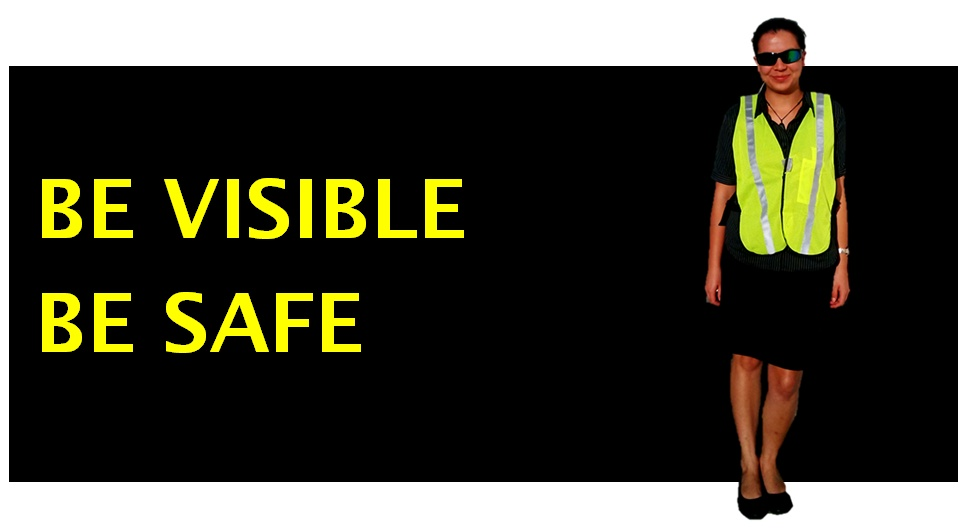person with partial safety: (710, 17, 836, 526)
safety vest: (731, 88, 843, 261)
